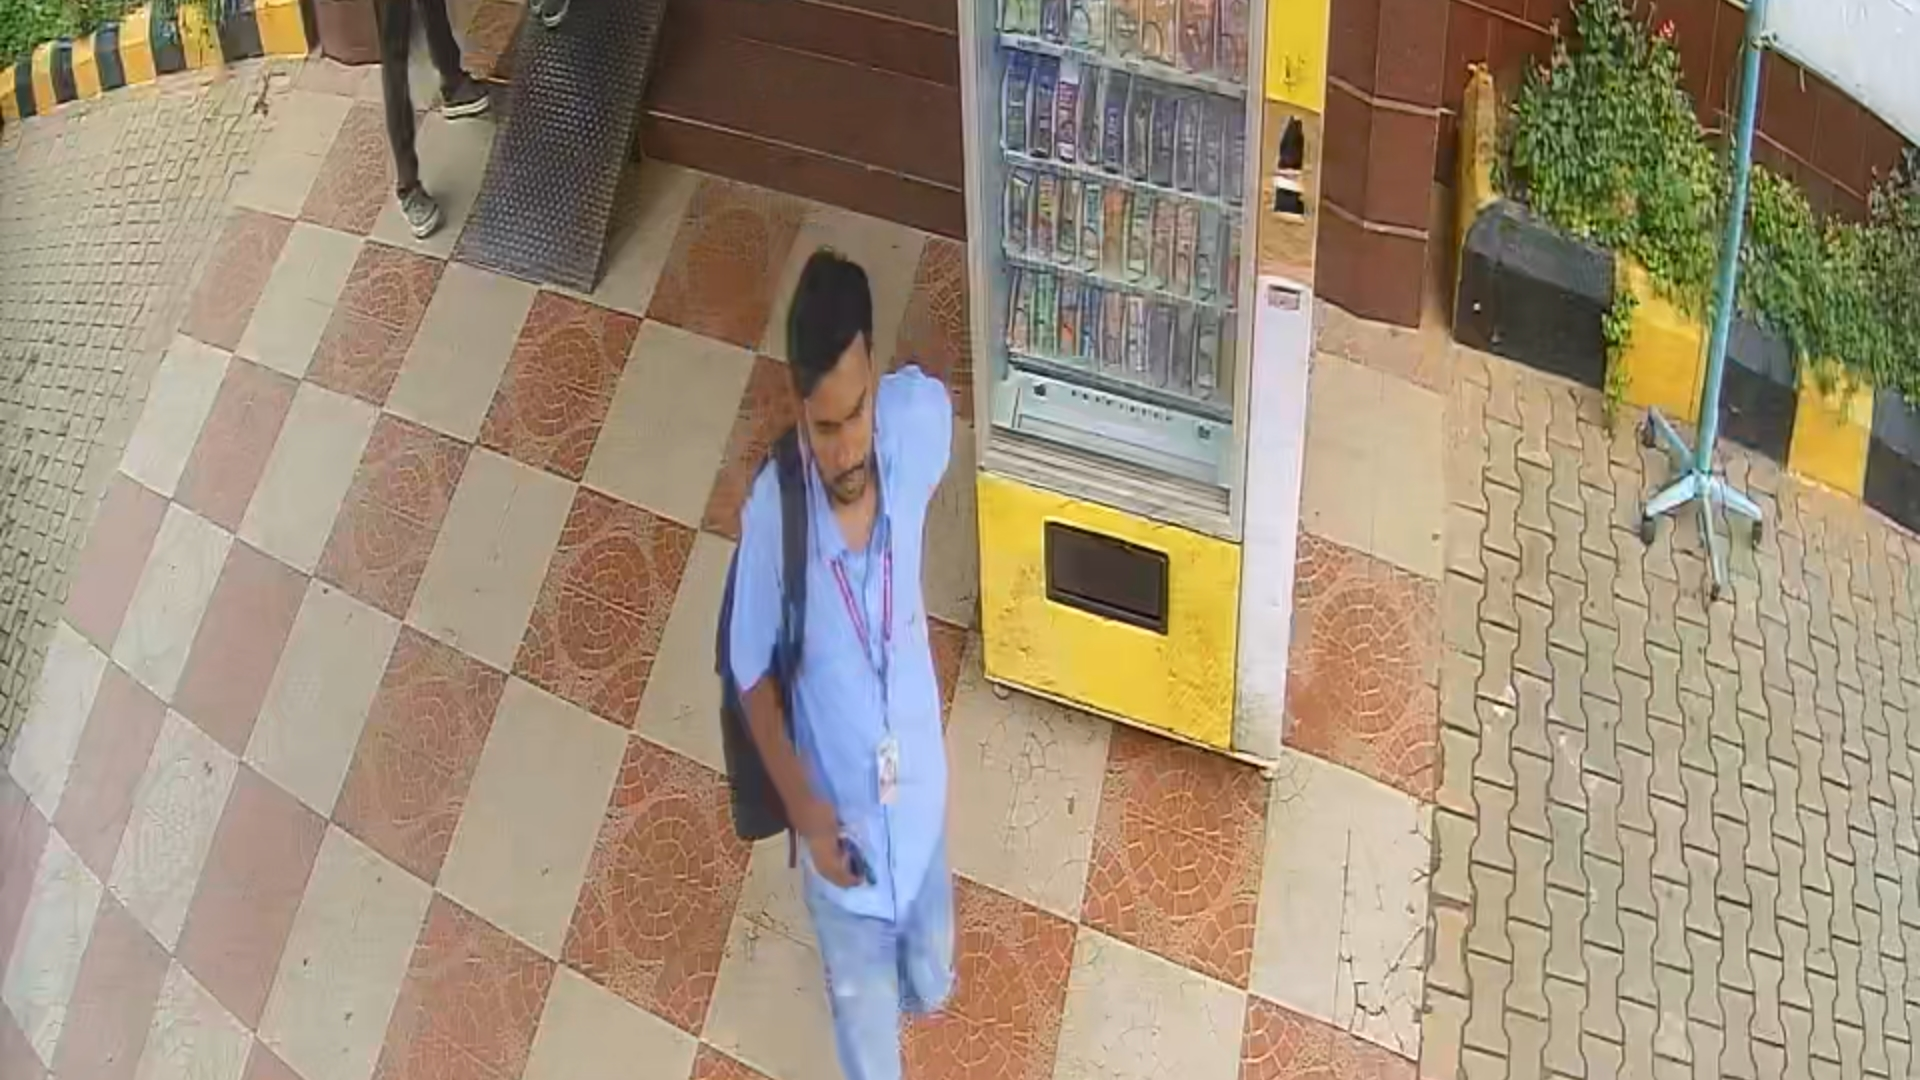not intruder: (711, 207, 1005, 1065)
